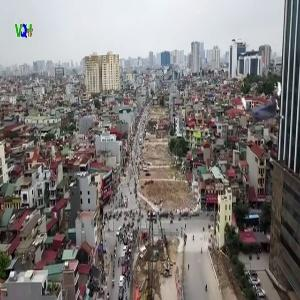drone: (238, 82, 294, 138)
